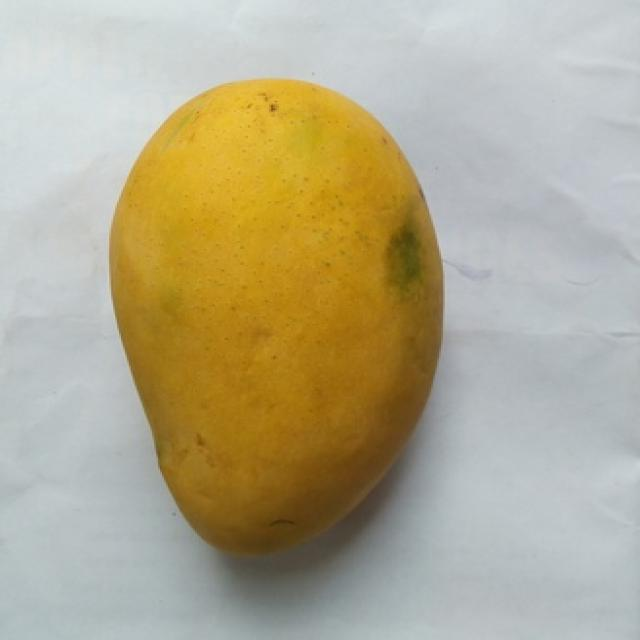Mango: (109, 80, 441, 554)
